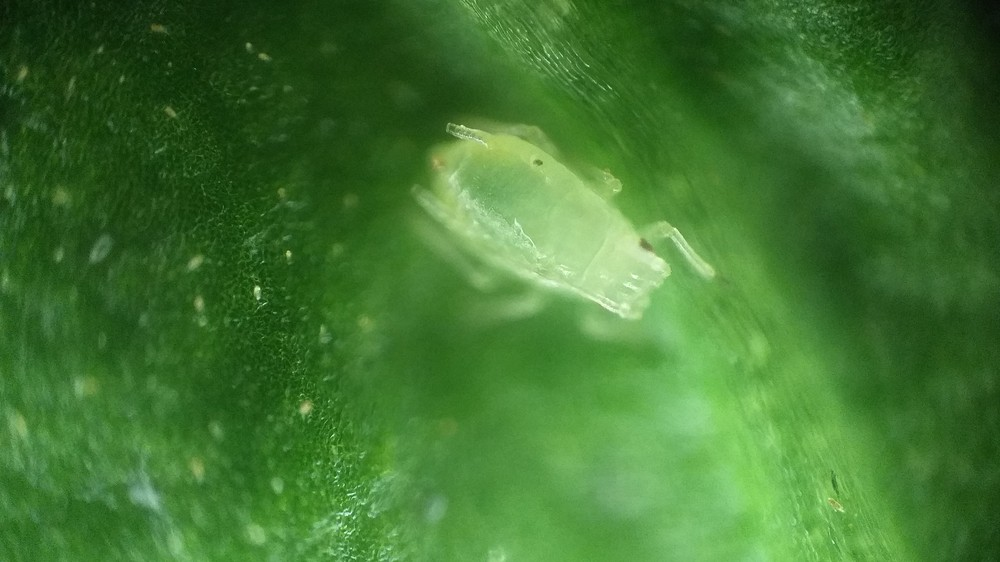Pulgon: (385, 97, 756, 401)
